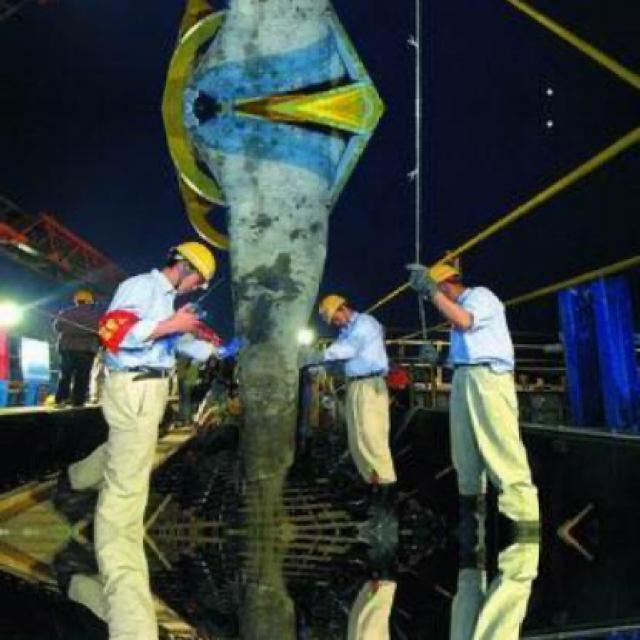helmet: (162, 235, 223, 298), (419, 262, 463, 309), (318, 296, 354, 333), (75, 285, 94, 313)
